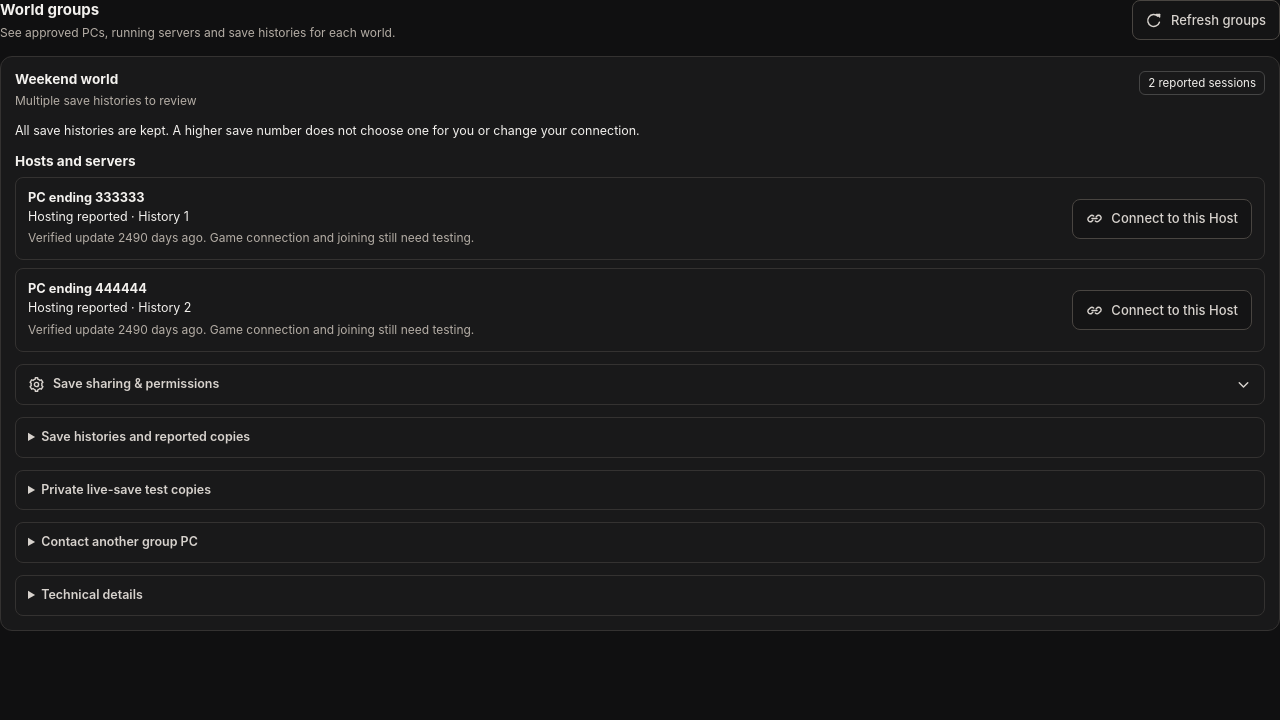
it: World groups › keeps world membership without receiving consent and preserves concurrent session choices
This screenshot has width=1280, height=720.
Expected: the field labelled "Allow saves on this PC" is not shown
Expected: the number of buttons "Connect to this Host" is 2, x1=1072 y1=199 x2=1252 y2=239; x1=1072 y1=290 x2=1252 y2=330
Click the heading "Save sharing & permissions": click(136, 384) x1=28 y1=375 x2=1252 y2=394
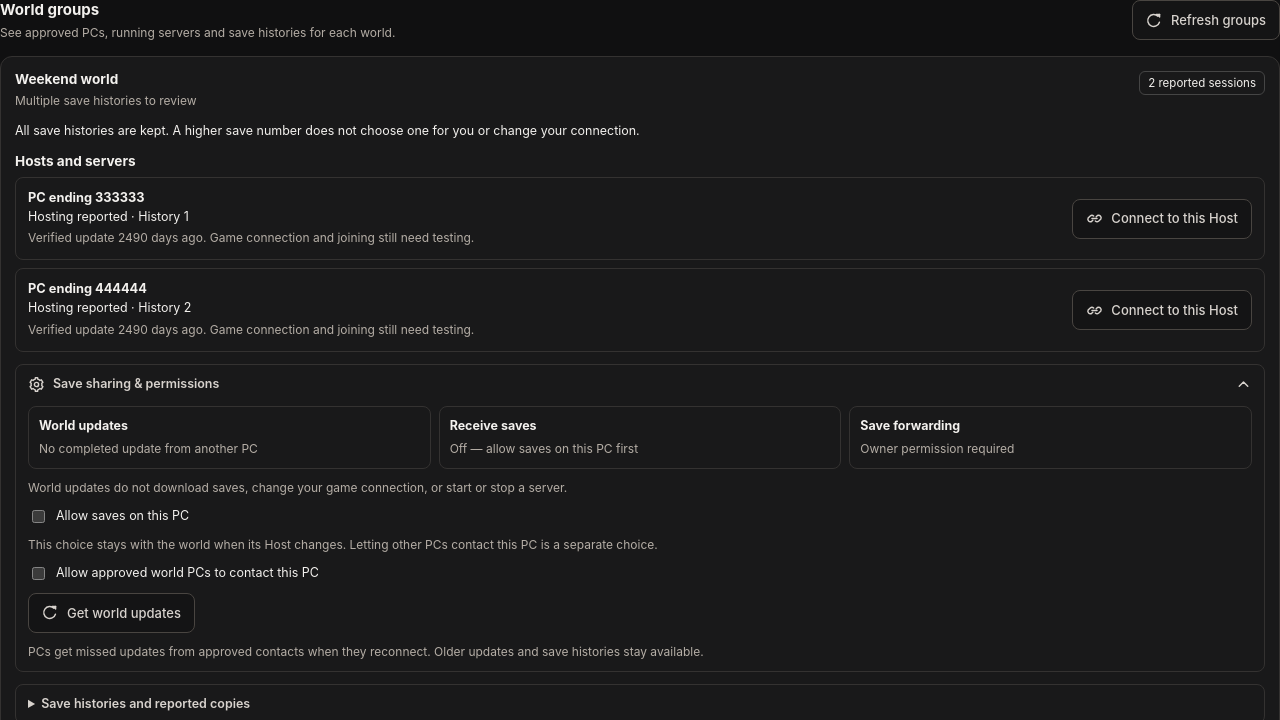
Expected: the text "Off — allow saves on this PC first" is shown, x1=450 y1=441 x2=638 y2=456
Expected: the checkbox labelled "Allow saves on this PC" is not checked, x1=32 y1=510 x2=45 y2=523
Click the heading "Save histories and reported copies": click(146, 703) x1=41 y1=696 x2=250 y2=711
(page scrolled)
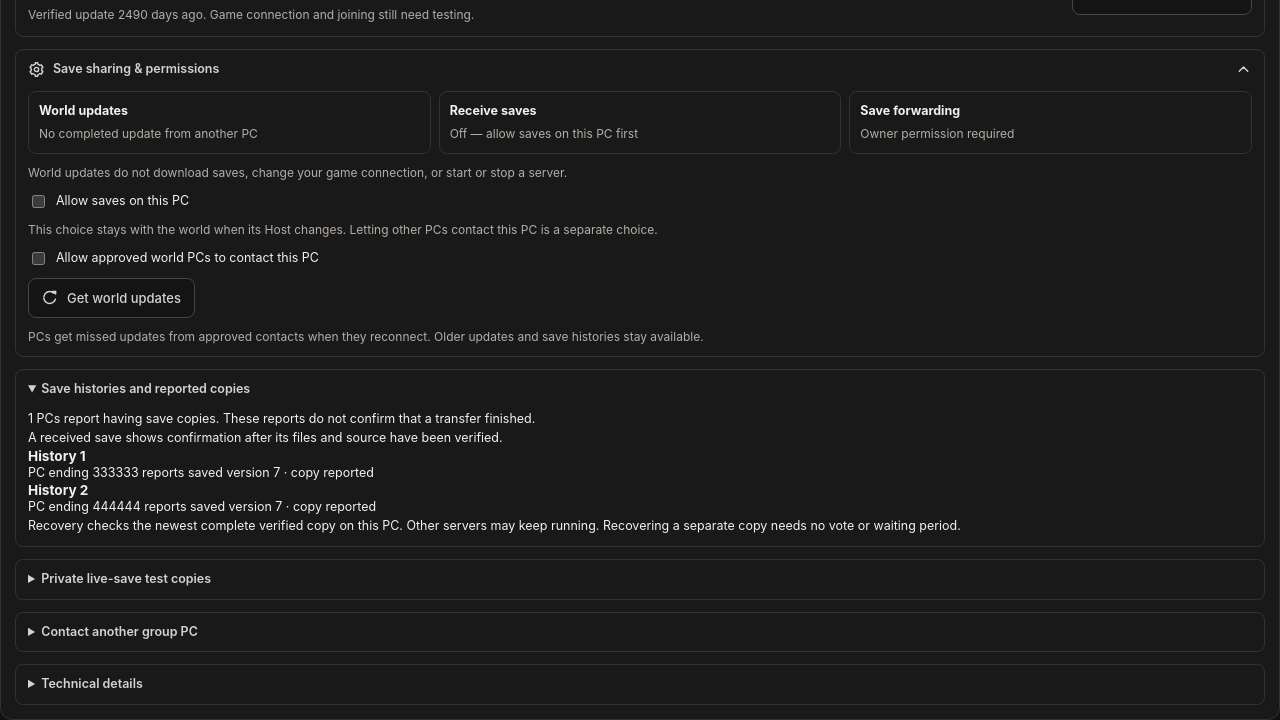
Expected: the text "These reports do not confirm that a transfer finished" is shown, x1=33 y1=411 x2=535 y2=426
Expected: the element "History 1" shows "reports saved version 7", x1=28 y1=448 x2=374 y2=480
Expected: the element "History 2" shows "reports saved version 7", x1=28 y1=482 x2=376 y2=514
